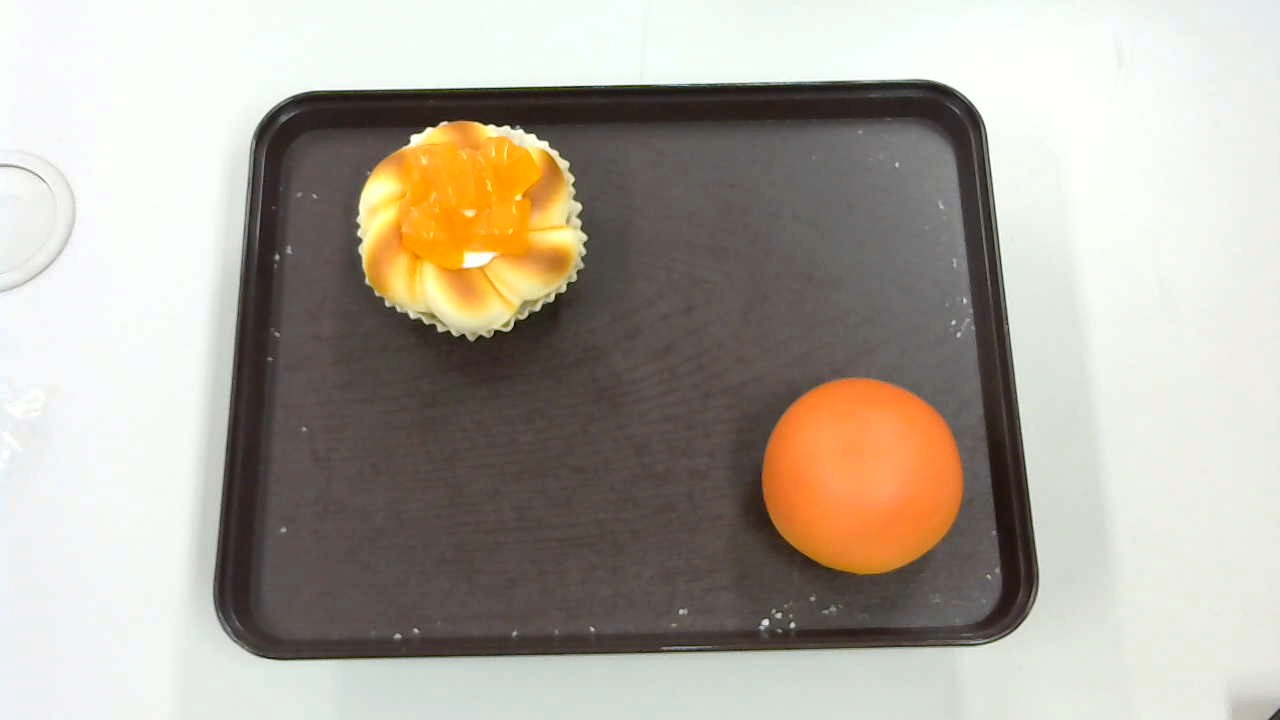bun: (762, 376, 964, 577)
mango tart: (356, 119, 590, 342)
